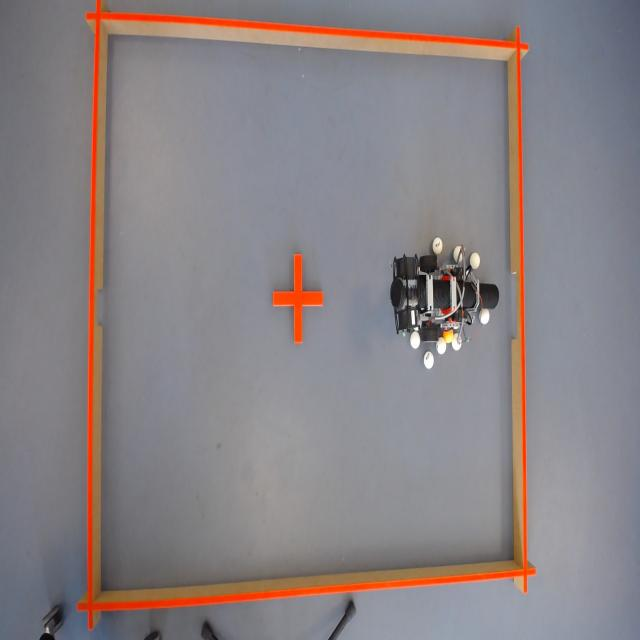orange-golf-balls: (444, 328, 454, 343)
robot: (390, 255, 499, 344)
white-golf-balls: (410, 329, 421, 348), (470, 251, 481, 269), (433, 236, 443, 254), (437, 336, 447, 354), (452, 333, 462, 350), (424, 351, 434, 368), (481, 308, 490, 324), (454, 245, 462, 262)
